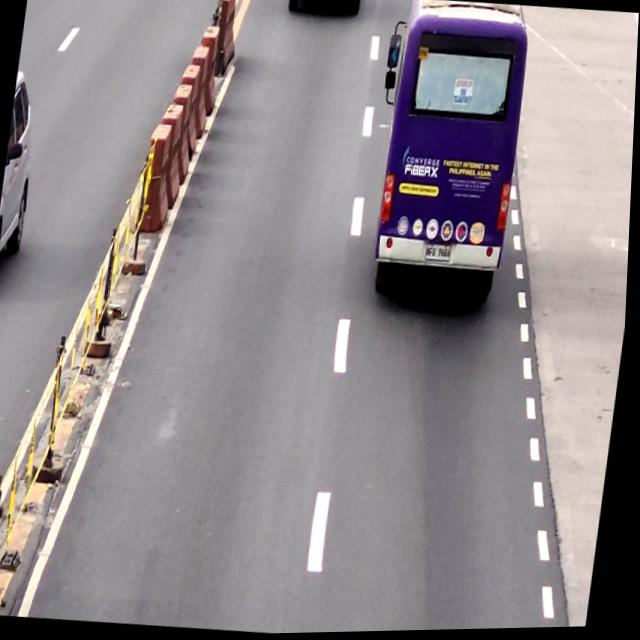Bus: (357, 0, 537, 313)
License-Plate: (426, 245, 455, 266)
